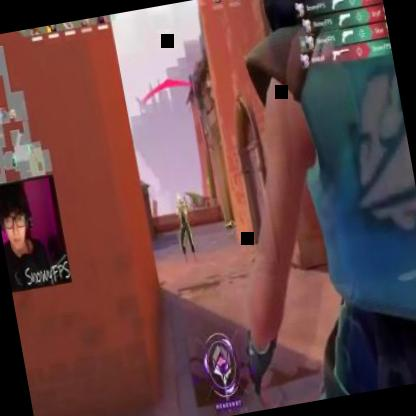enemy: (172, 190, 198, 264)
enemy_head: (174, 193, 183, 207)
